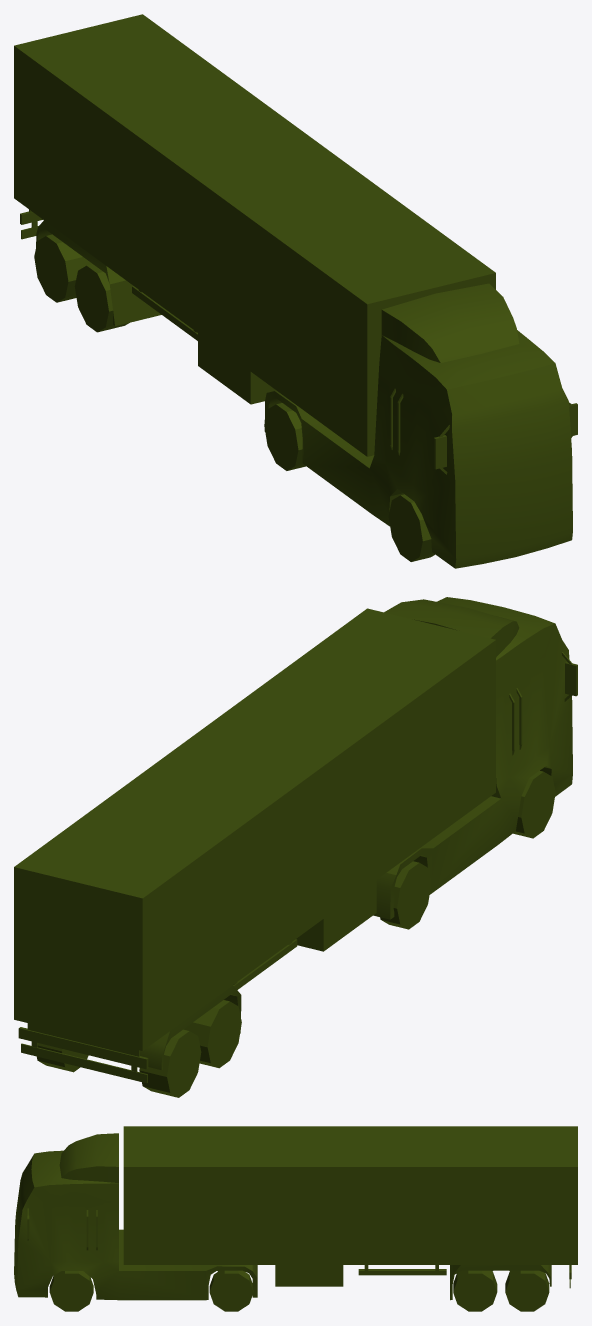
Rendered from Vehicle06B_M.fbx.
3 views of the same model, one above another, from view 1: azimuth 30°, elevation 25°; view 2: azimuth 150°, elevation 25°; view 3: azimuth 270°, elevation 25° (orthographic). The views are drawn at different scales.
Parts seen in each view (by area): view 1: Vehicle06B; view 2: Vehicle06B; view 3: Vehicle06B.
Boxes of the visible parts, x1,y1,x2,y2 form: Vehicle06B: (14,14,577,568); Vehicle06B: (14,597,577,1097); Vehicle06B: (14,1126,577,1311).
Size of the model in its own units: 1.76 by 2.65 by 9.4.
